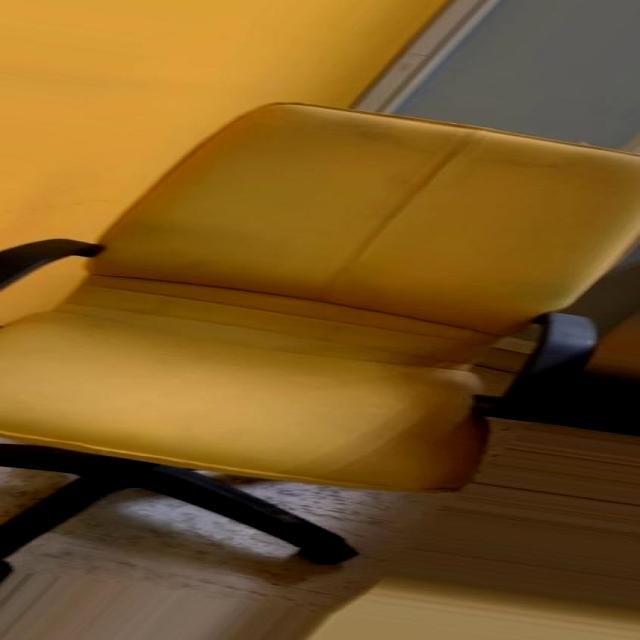Chair: (4, 100, 640, 591)
